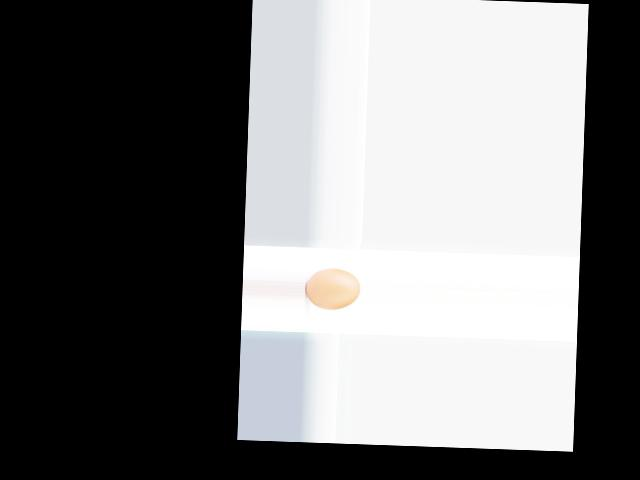egg: (305, 267, 360, 311)
